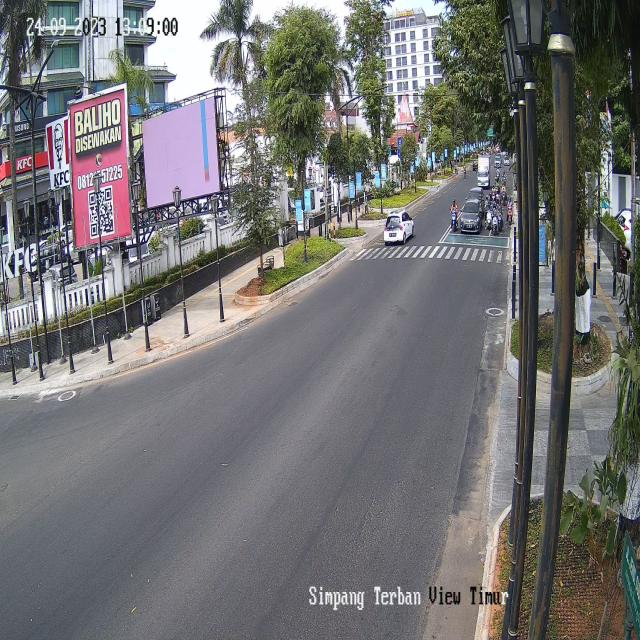car: (384, 210, 416, 246), (460, 201, 481, 233), (467, 183, 484, 214), (472, 159, 479, 172), (494, 155, 500, 168), (503, 156, 510, 166)
motorcycle: (451, 197, 458, 234), (492, 201, 498, 235), (486, 200, 492, 231), (507, 197, 513, 225), (497, 199, 502, 232), (501, 182, 507, 202), (492, 184, 496, 198)
truck: (477, 154, 490, 186)
